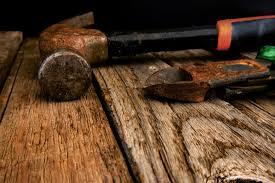hammer: (35, 7, 140, 103)
